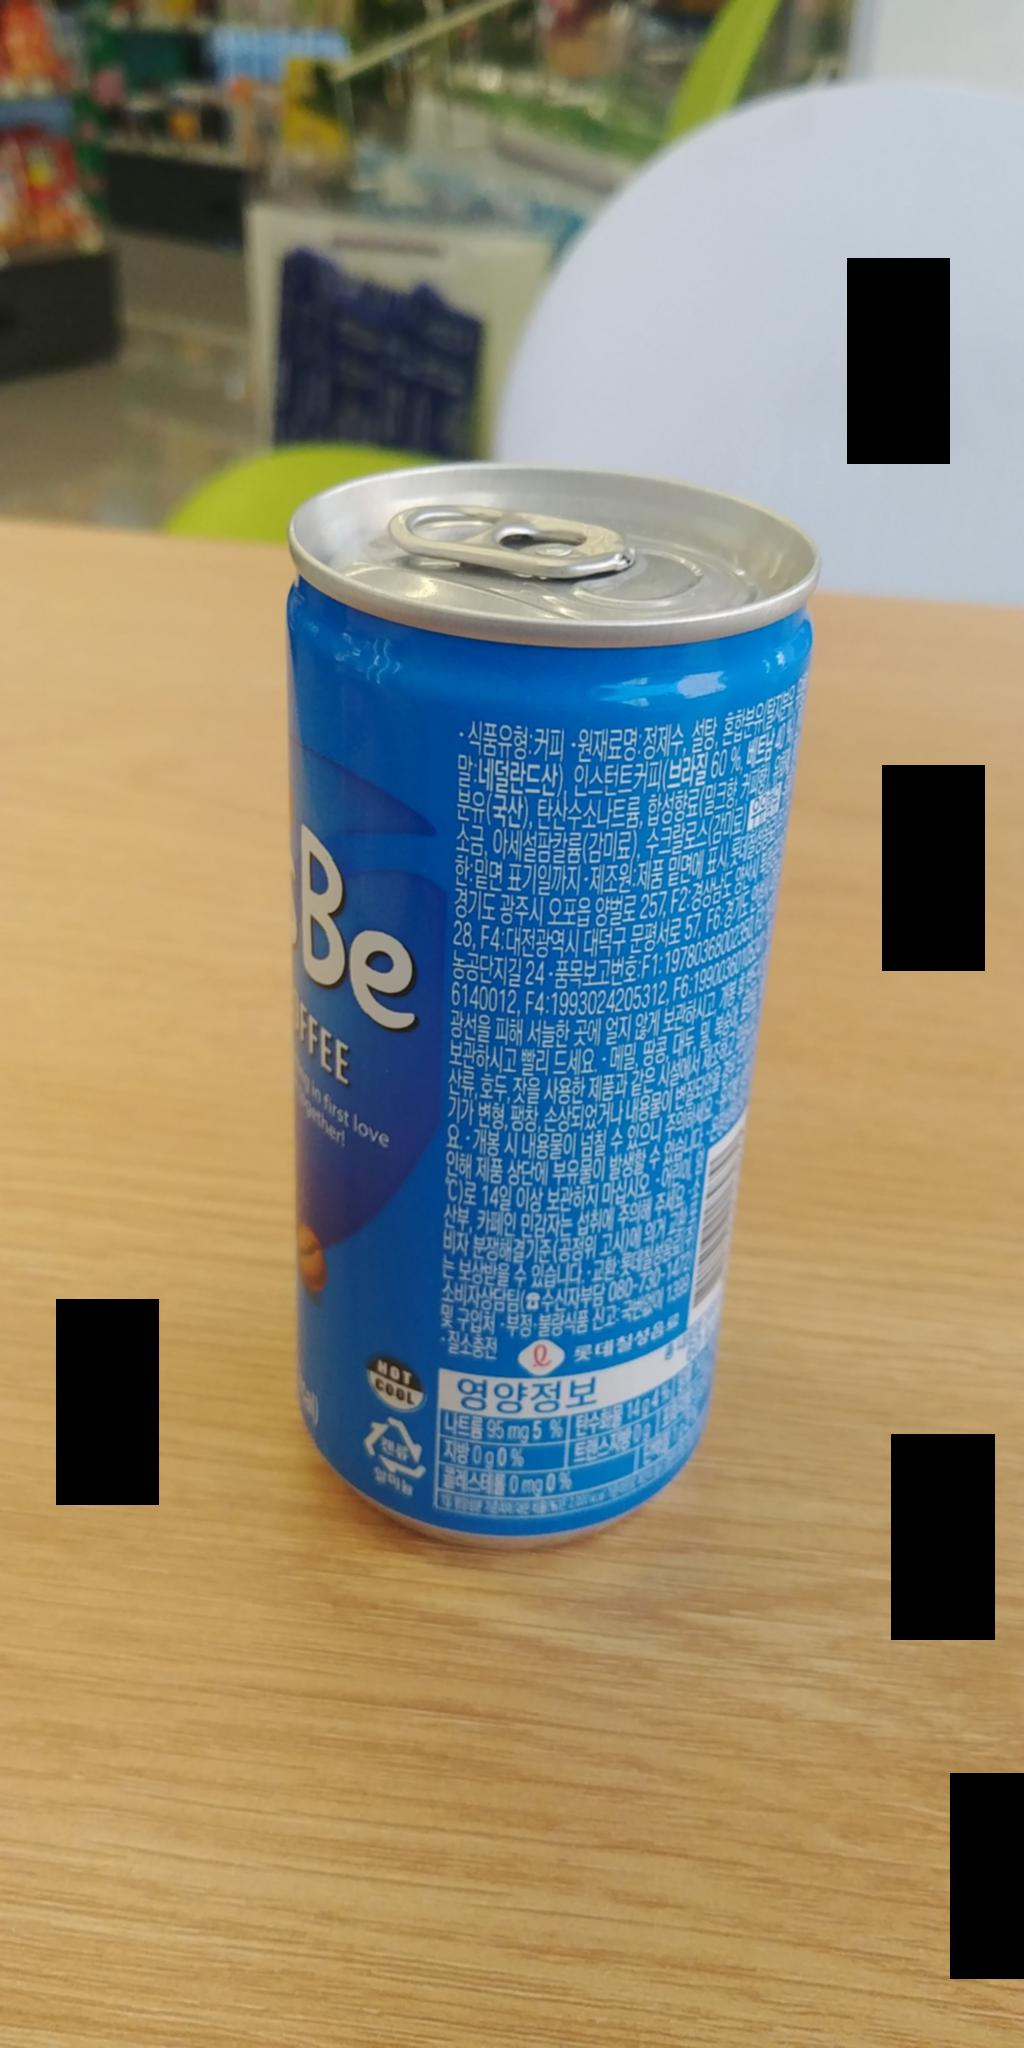letsbe: (268, 453, 752, 1563)
